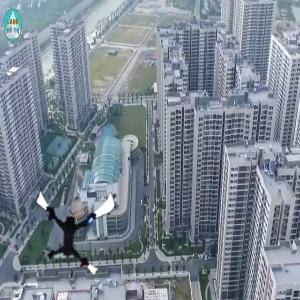drone: (26, 182, 116, 272)
